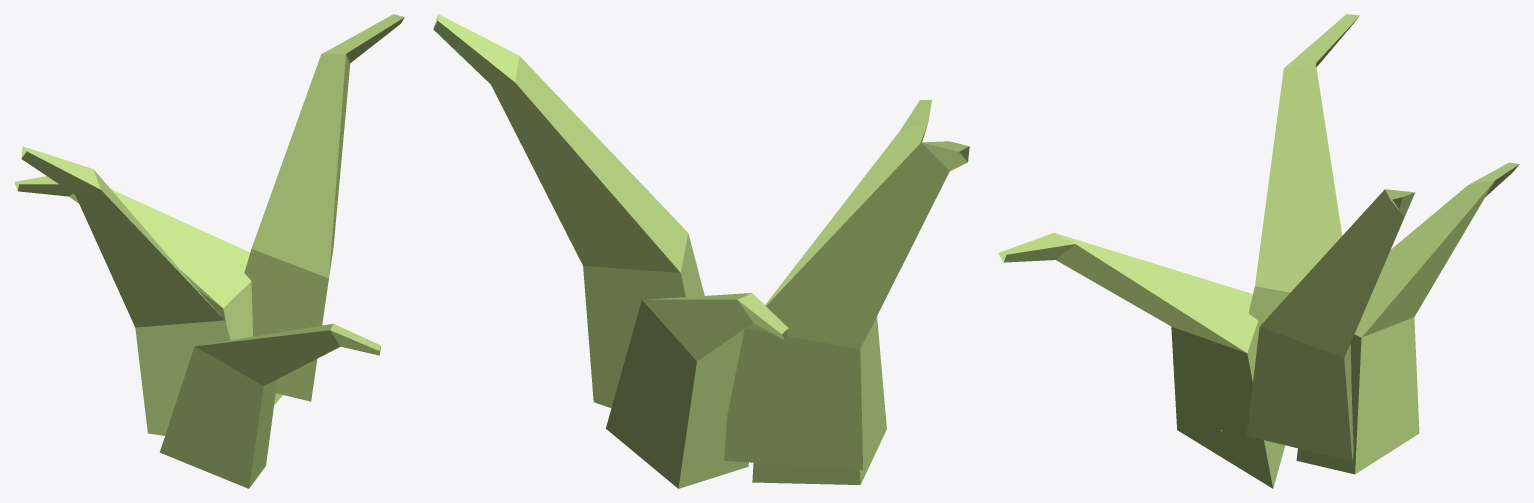
File: lowPolyTiles_grass01.fbx
The picture shows the model from 3 angles, left to right: view 1: azimuth 30°, elevation 25°; view 2: azimuth 150°, elevation 25°; view 3: azimuth 270°, elevation 25°; orthographic projection. The views are drawn at different scales.
Visible parts, largest first — view 1: Grass01; view 2: Grass01; view 3: Grass01.
Boxes of the visible parts, x1,y1,x2,y2 form: Grass01: (14,14,404,488); Grass01: (433,14,969,488); Grass01: (998,14,1519,488).
Bounding box in the file's own units: 34.15 × 29.51 × 35.69.
